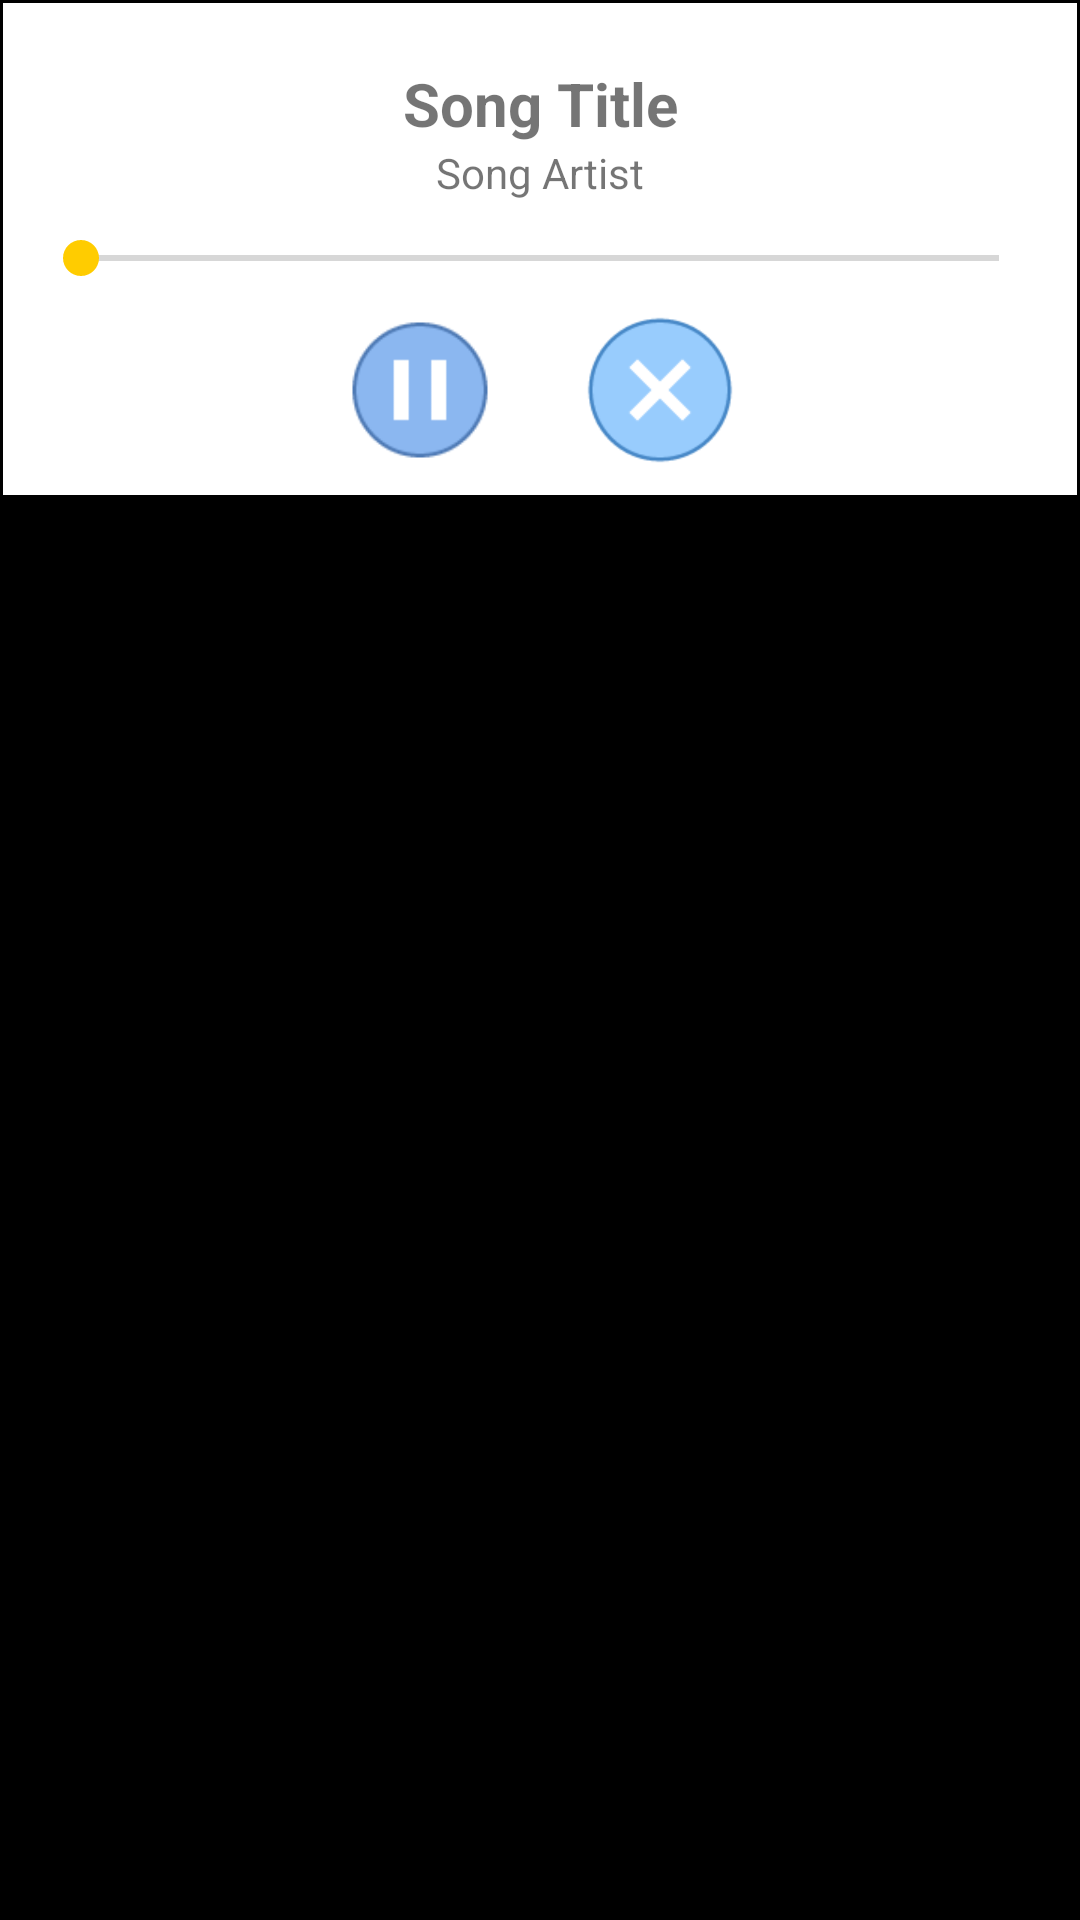

Named icons in this screenshot (1080 x 1920) and their bounding boxes, (x1, y1, x2, y2):
cancel: (588, 318, 732, 462)
pause: (352, 322, 488, 458)
